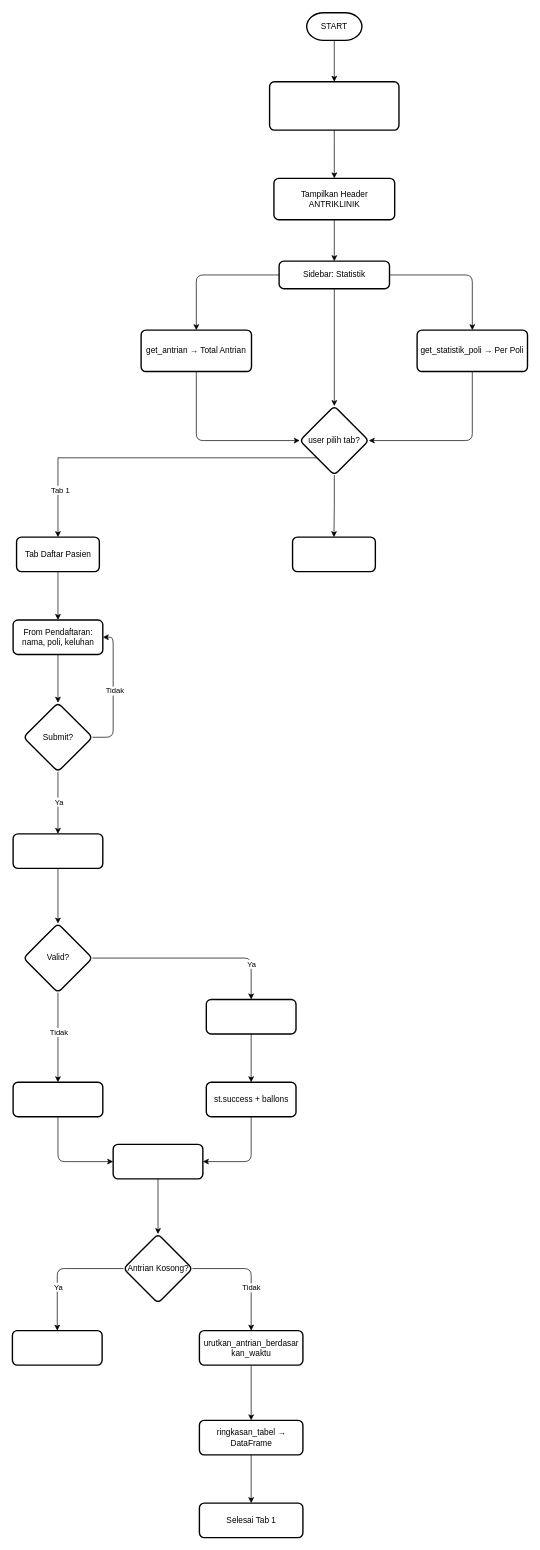
Some shapes in this 540 by 1550 pixel diagram are drawn without their labels. Each missing label, with the centre of its shape:
Konfigurasi Halaman Streamlit page_title, layout wide: pixel 334 105
st.error pesan: pixel 57 1099
st.info Antrian kosong: pixel 56 1348
Tab Panggil Antrian: pixel 334 554
tambah_antrian: pixel 250 1016
Tampilkan Daftar Antrian: pixel 157 1161
validasi_pasien: pixel 57 851
